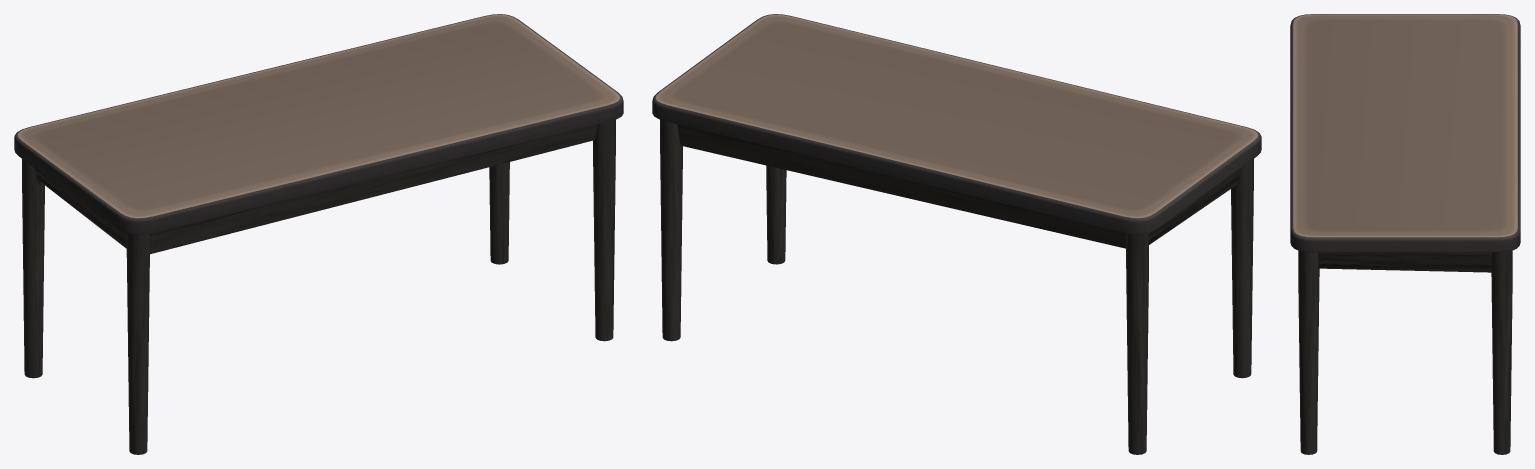
File: OfficeTable02.FBX
The picture shows the model from 3 angles, left to right: view 1: azimuth 30°, elevation 25°; view 2: azimuth 150°, elevation 25°; view 3: azimuth 270°, elevation 25°; orthographic projection. The views are drawn at different scales.
Visible parts, largest first — view 1: OfficeTable02; view 2: OfficeTable02; view 3: OfficeTable02.
Part boxes in pixels (bbox=[...]): OfficeTable02: bbox=[14, 14, 623, 454]; OfficeTable02: bbox=[652, 14, 1261, 454]; OfficeTable02: bbox=[1290, 14, 1520, 454].
Size of what is drawn, in the model's own units: 1.97 by 0.9 by 0.851.
